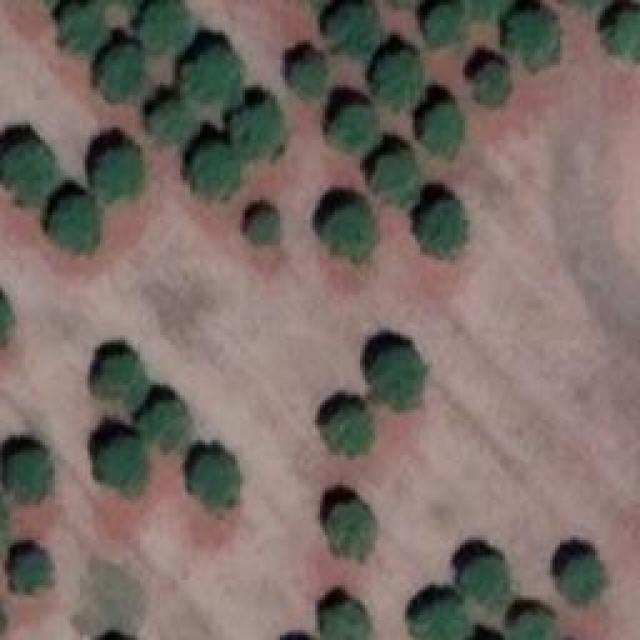Tree: (220, 100, 283, 163), (180, 43, 240, 103), (318, 198, 378, 258), (507, 10, 565, 70), (185, 450, 238, 513), (3, 140, 58, 200), (320, 3, 380, 58), (418, 200, 473, 258), (375, 50, 425, 113), (93, 142, 146, 200), (50, 193, 100, 253), (98, 40, 148, 98), (370, 345, 420, 403), (63, 3, 113, 56), (460, 550, 508, 605), (142, 400, 190, 453), (92, 433, 140, 486), (325, 500, 373, 553), (95, 350, 145, 400), (415, 597, 472, 640), (140, 0, 190, 48), (153, 93, 196, 146), (555, 558, 600, 608), (328, 105, 373, 153), (193, 148, 236, 198), (325, 408, 370, 453), (373, 153, 416, 198), (325, 597, 370, 640), (10, 447, 50, 495), (605, 10, 640, 60), (240, 208, 283, 248), (425, 103, 465, 146), (423, 0, 466, 40), (10, 550, 50, 593), (473, 58, 508, 103), (288, 55, 328, 90), (508, 610, 553, 640)
